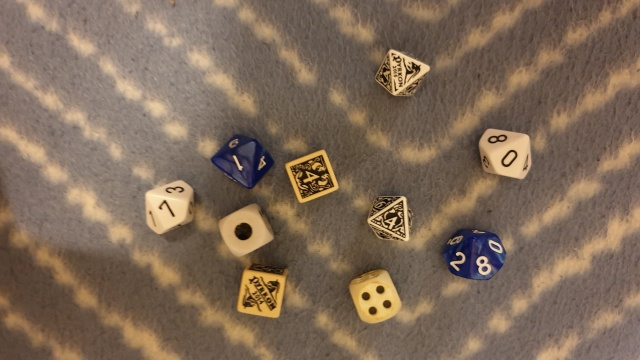d10-1: (204, 121, 278, 191)
d10-10: (473, 120, 537, 186)
d10-7: (134, 175, 201, 241)
d10-8: (442, 224, 514, 289)
d6-1: (214, 201, 280, 258)
d6-4: (343, 262, 409, 326)
d6p-1: (228, 262, 293, 321)
d6p-4: (282, 144, 342, 209)
d8p-1: (366, 41, 437, 105)
d8p-4: (363, 189, 416, 247)
